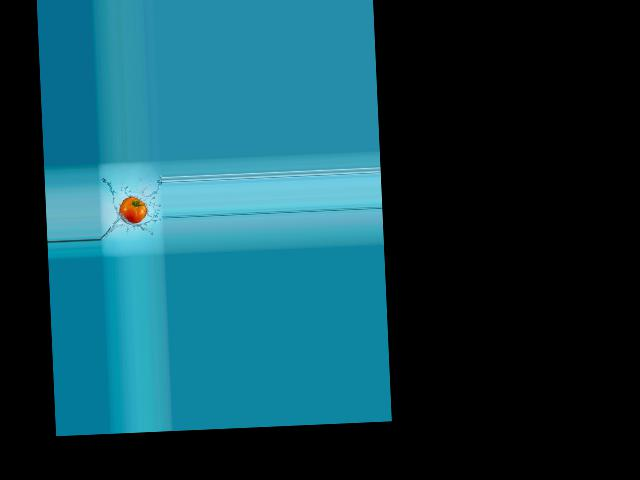tomato: (118, 196, 147, 224)
